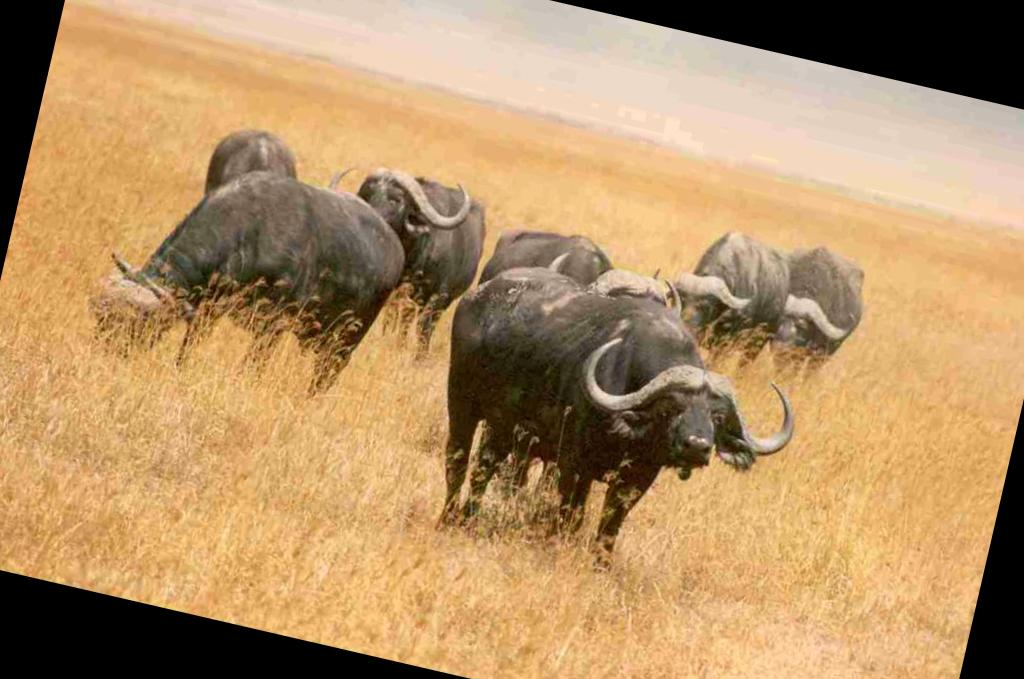Buffalo: (0, 47, 895, 623)
